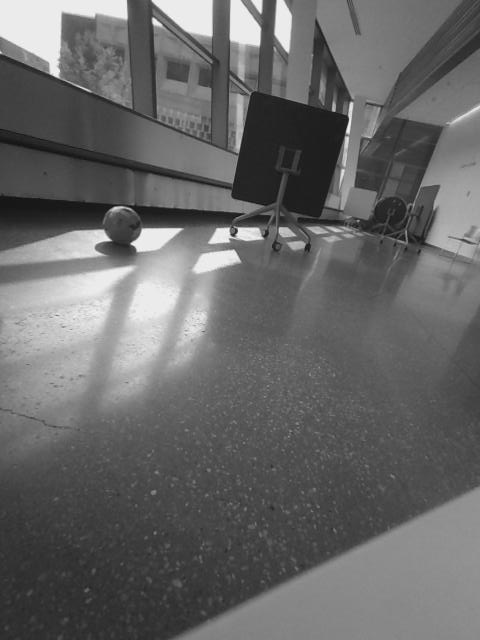ball: (100, 203, 146, 248)
